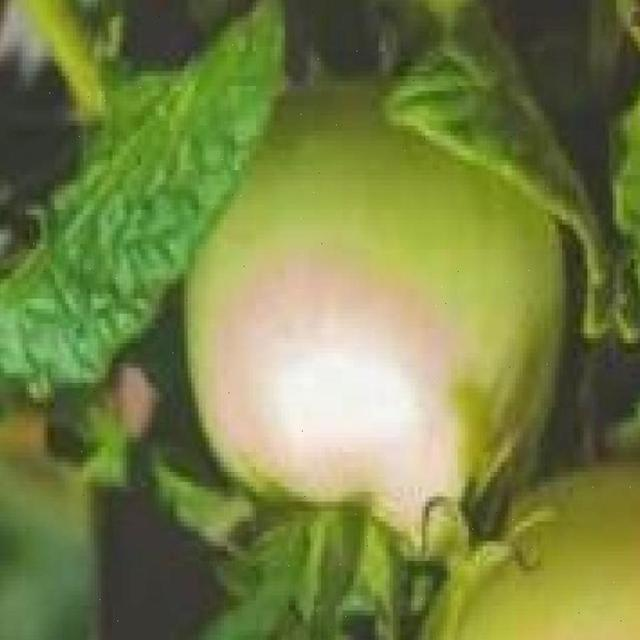Sunscald Fruit: (140, 168, 313, 360)
